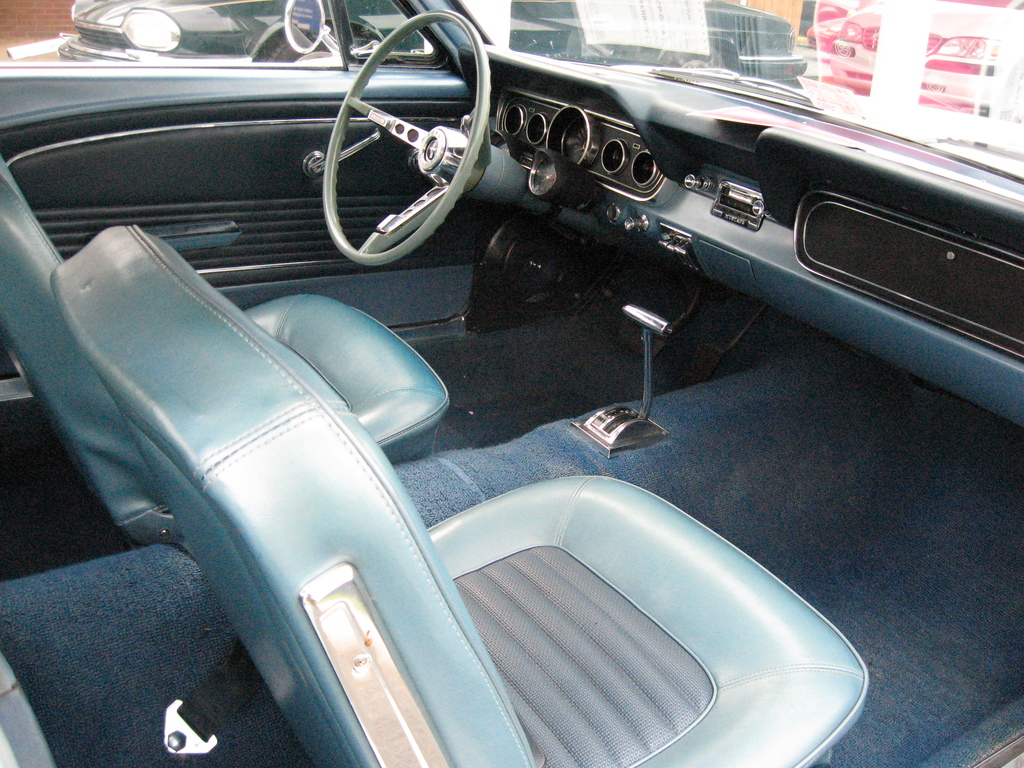cars: (0, 0, 1023, 767), (59, 0, 805, 62), (805, 0, 1023, 170)
